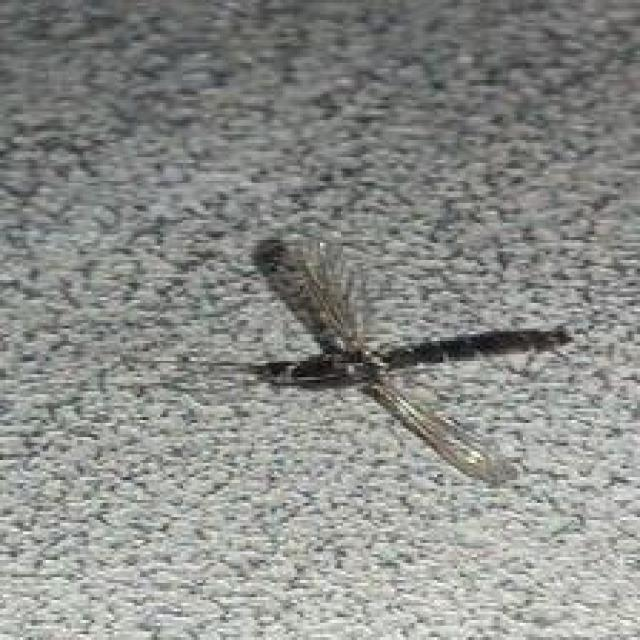Aedes albopictus: (244, 232, 573, 488)
